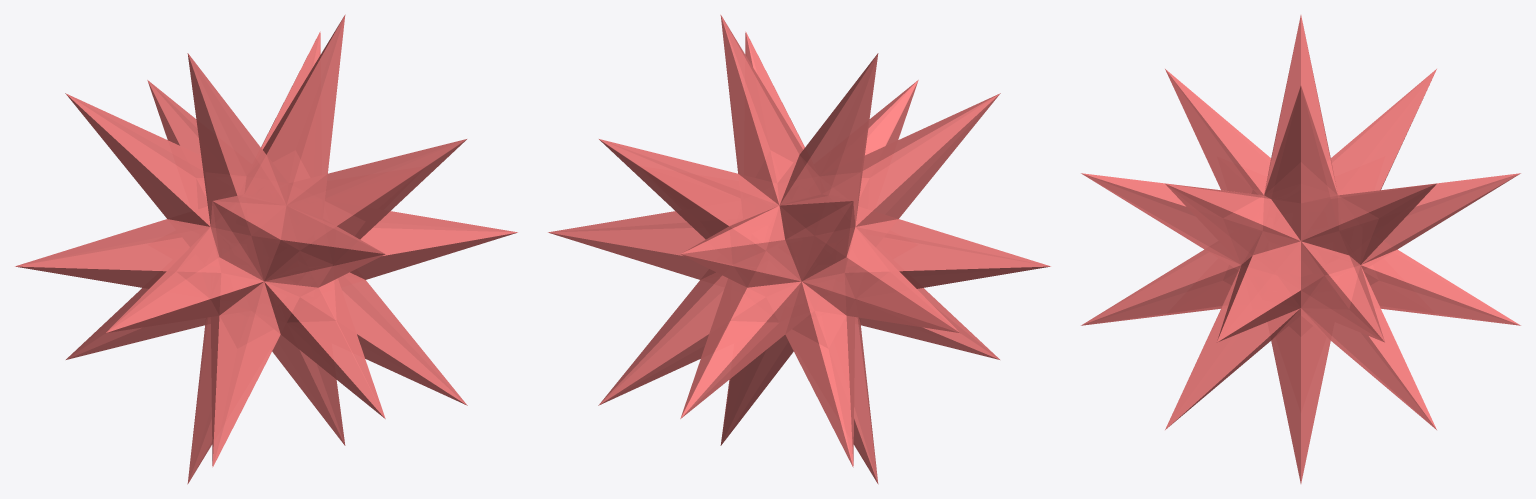
File: GreatDisdyakisTriacontahedron.obj
3 renders of one model, left to right at view 1: azimuth 30°, elevation 25°; view 2: azimuth 150°, elevation 25°; view 3: azimuth 270°, elevation 25°, orthographic. The views are drawn at different scales.
Size of the model in its own units: 7.24 by 7.24 by 7.24.
